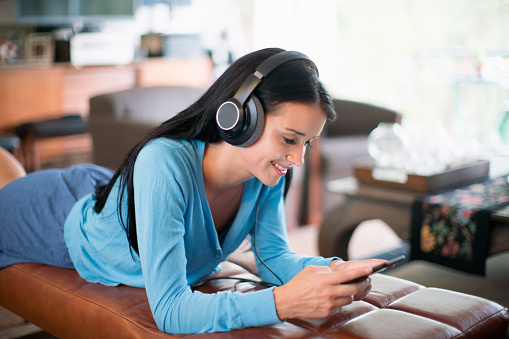deitado: (0, 59, 413, 339)
